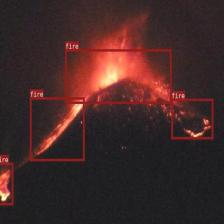fire: (65, 49, 171, 103), (30, 97, 84, 160), (171, 98, 213, 139), (0, 162, 13, 204)
